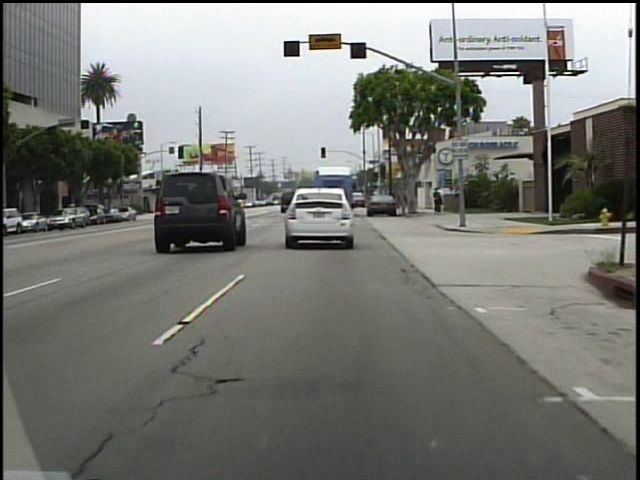person: (431, 187, 443, 217), (438, 187, 448, 214)
